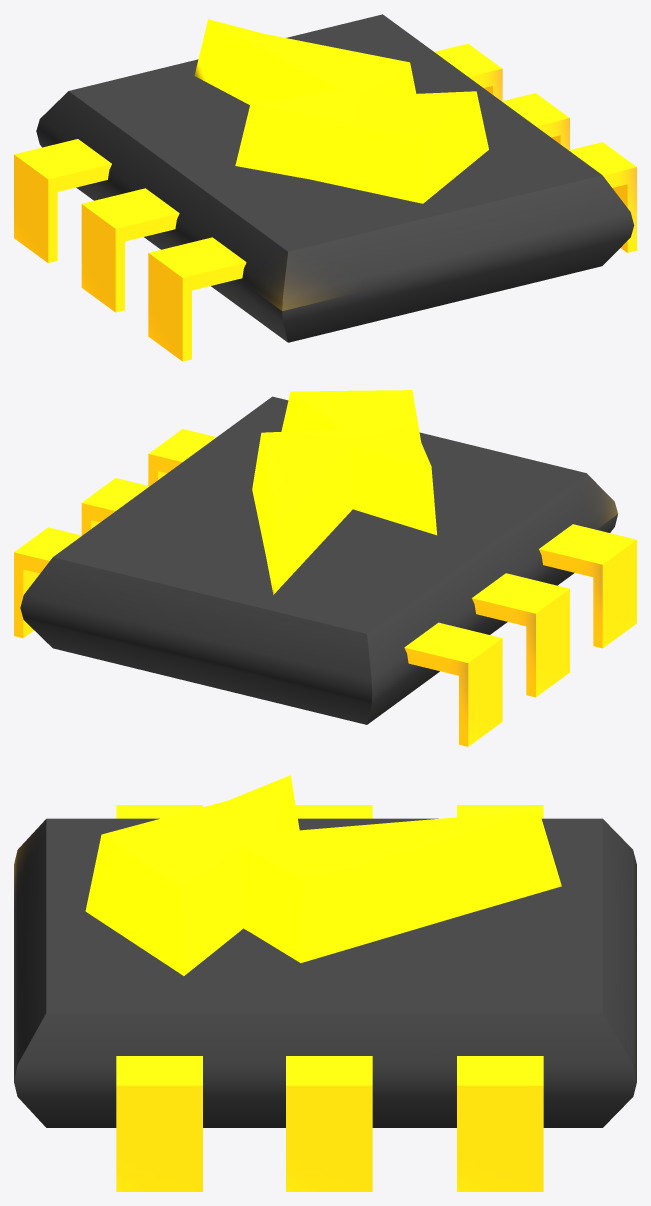
Rendered from EnergyPwrUp.fbx.
3 renders of one model, top to bottom at view 1: azimuth 30°, elevation 25°; view 2: azimuth 150°, elevation 25°; view 3: azimuth 270°, elevation 25°, orthographic. The views are drawn at different scales.
Visible parts, largest first — view 1: EnergyPwrUp; view 2: EnergyPwrUp; view 3: EnergyPwrUp.
Boxes of the visible parts, x1,y1,x2,y2 form: EnergyPwrUp: [14, 14, 636, 361]; EnergyPwrUp: [14, 390, 636, 746]; EnergyPwrUp: [14, 775, 636, 1191].
Size of the model in its own units: 13.68 by 5.01 by 12.83.
